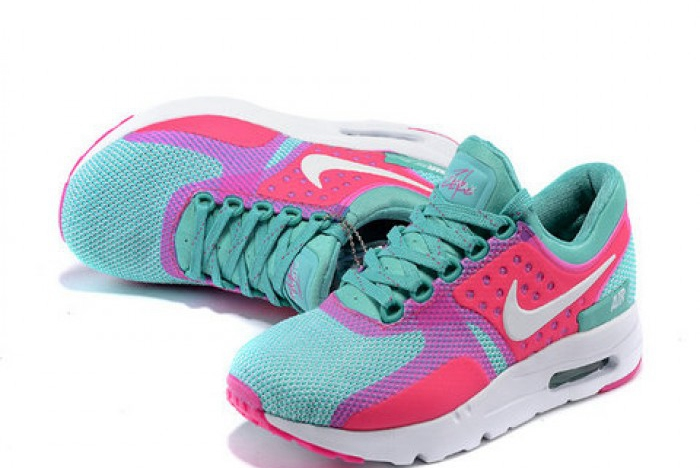nike: (499, 251, 619, 346), (298, 151, 433, 199)
